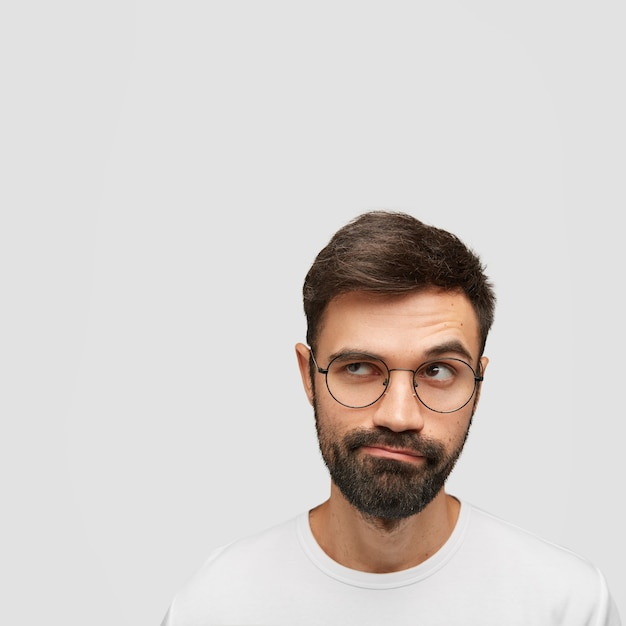young: (311, 228, 505, 520)
